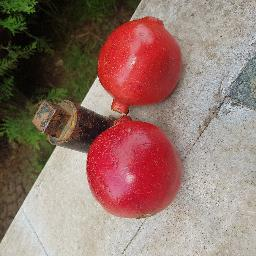Good_pomegranate: (81, 123, 191, 221), (96, 9, 185, 114)
